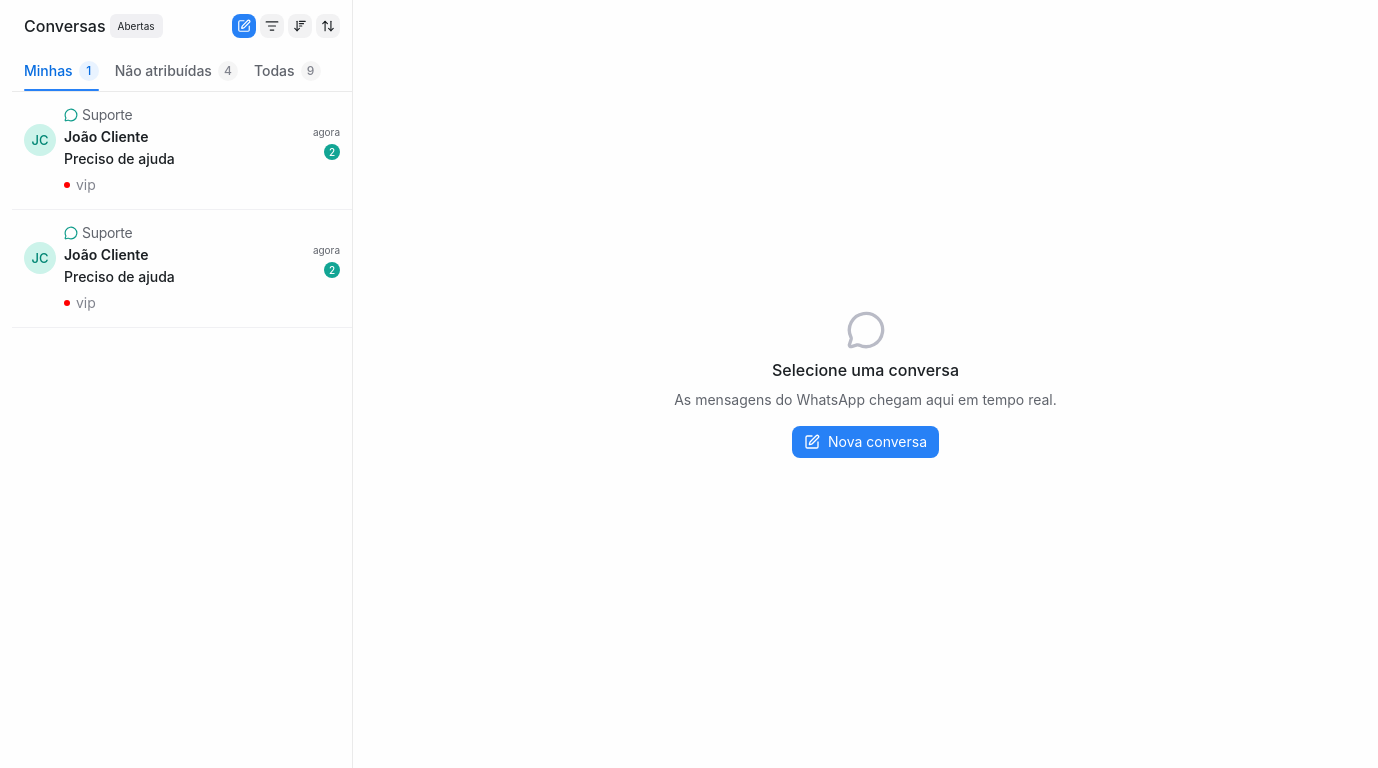
Scenario: running macros › runs a macro on the selected conversations from the bulk action bar
Click the checkbox named "Selecionar conversa #7".
click(182, 151)  # box [12,92,352,210]
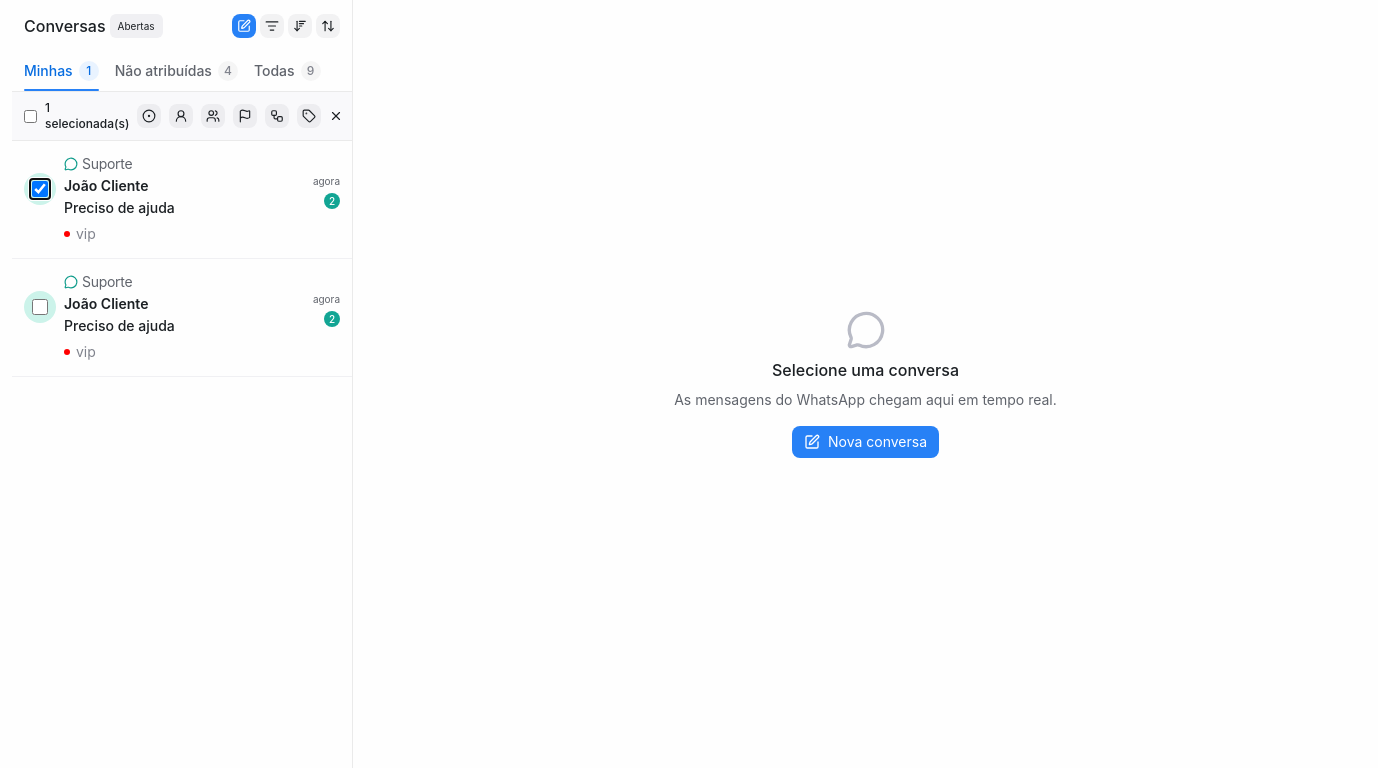
Click the checkbox named "Selecionar todas".
click(30, 116)  # box [24,110,37,122]
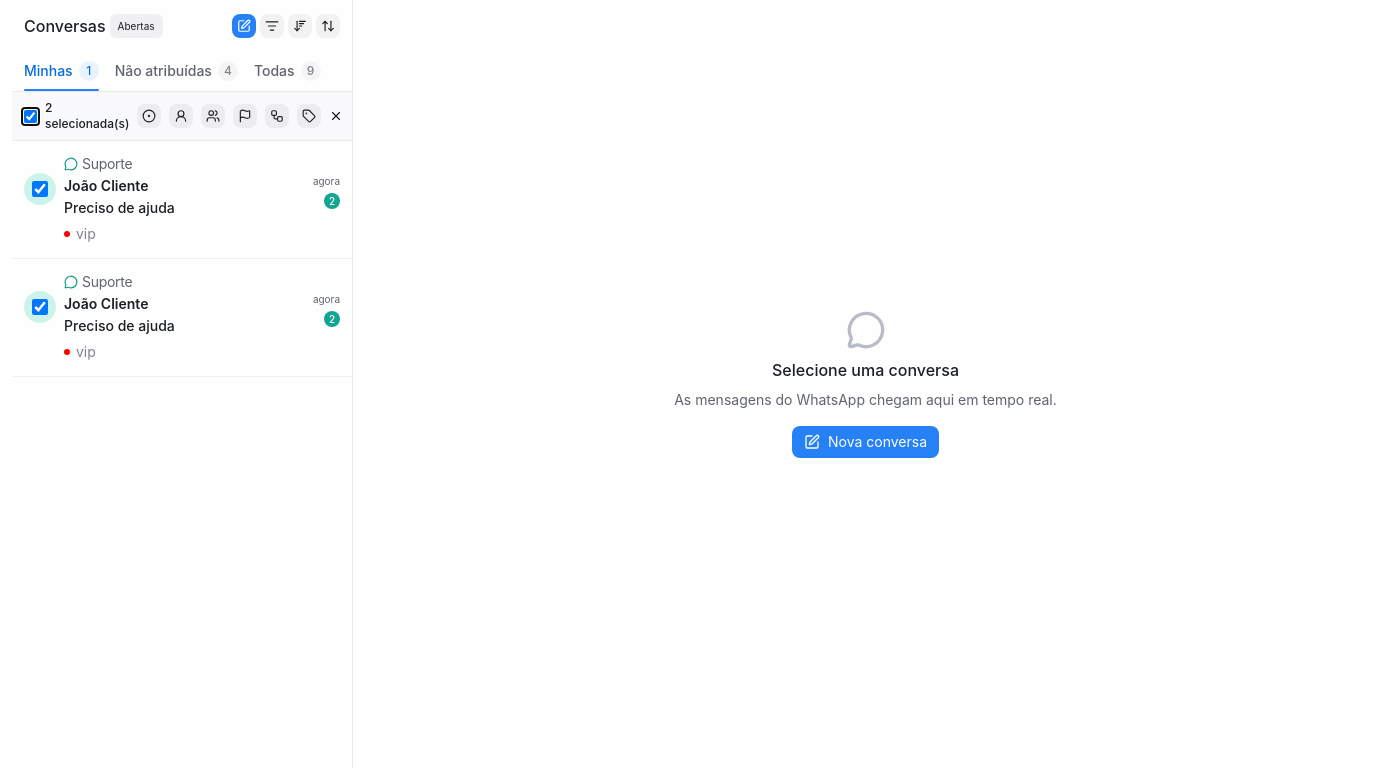
Click the button named "Executar macro".
click(277, 116)  # box [265,104,289,128]
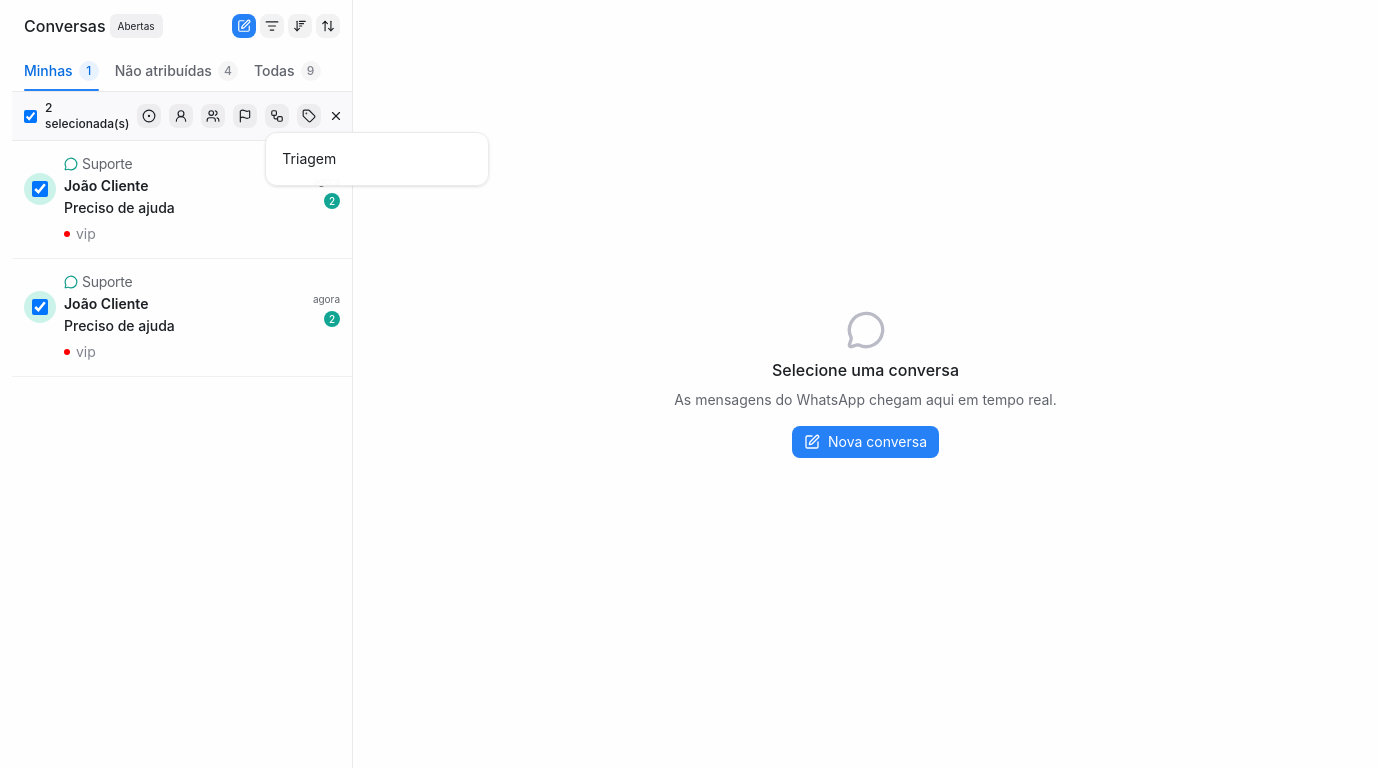
Click the menu item "Triagem".
click(377, 159)  # box [274,141,480,177]
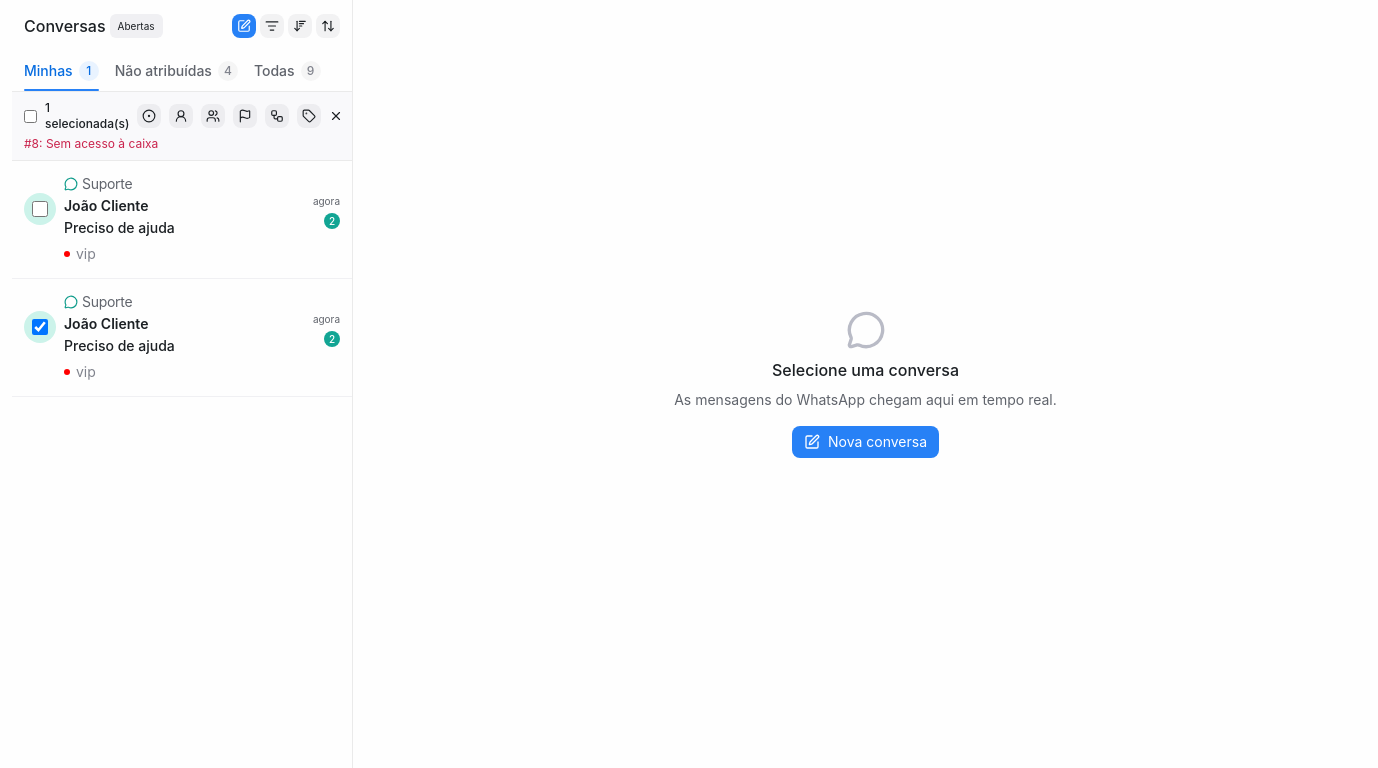
Expected: the list item "#8: Sem acesso à caixa" is shown, [24,136,158,151]
Expected: the text "1 selecionada(s)" is shown, [45,100,129,132]
